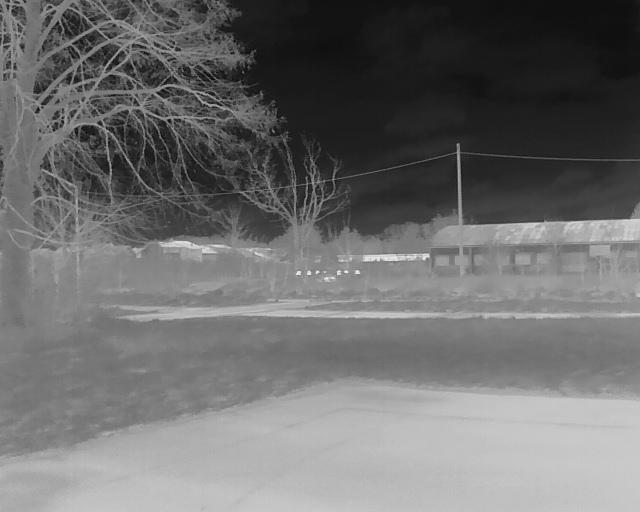drone: (289, 260, 368, 307)
